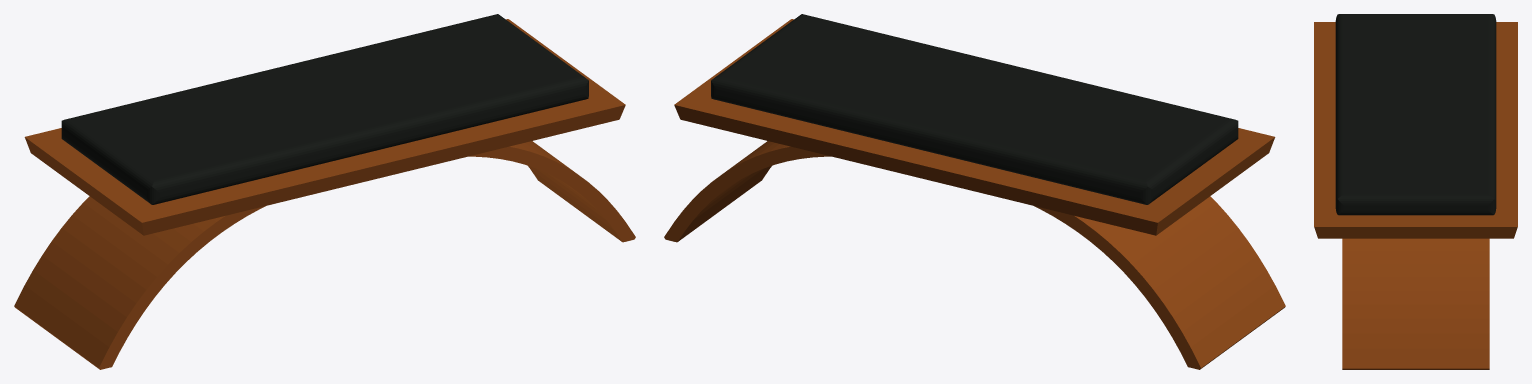
File: Escenario 4 - banca.fbx
3 views of the same model, side by side, from view 1: azimuth 30°, elevation 25°; view 2: azimuth 150°, elevation 25°; view 3: azimuth 270°, elevation 25° (orthographic). The views are drawn at different scales.
Visible parts, largest first — view 1: Component4_1, Component3_1, Component1, Component1_1; view 2: Component4_1, Component3_1, Component1, Component1_1; view 3: Component4_1, Component1_1, Component3_1.
Boxes of the visible parts, bbox=[...] form: Component4_1: bbox=[61, 14, 588, 204]; Component3_1: bbox=[24, 19, 625, 235]; Component1: bbox=[14, 196, 265, 369]; Component1_1: bbox=[469, 141, 635, 242]; Component4_1: bbox=[711, 14, 1238, 204]; Component3_1: bbox=[674, 19, 1275, 235]; Component1: bbox=[1034, 196, 1285, 369]; Component1_1: bbox=[664, 141, 830, 242]; Component4_1: bbox=[1335, 14, 1496, 215]; Component1_1: bbox=[1342, 238, 1489, 369]; Component3_1: bbox=[1314, 22, 1517, 238].
Bounding box in the file's own units: 1.97 × 0.616 × 0.7479.
